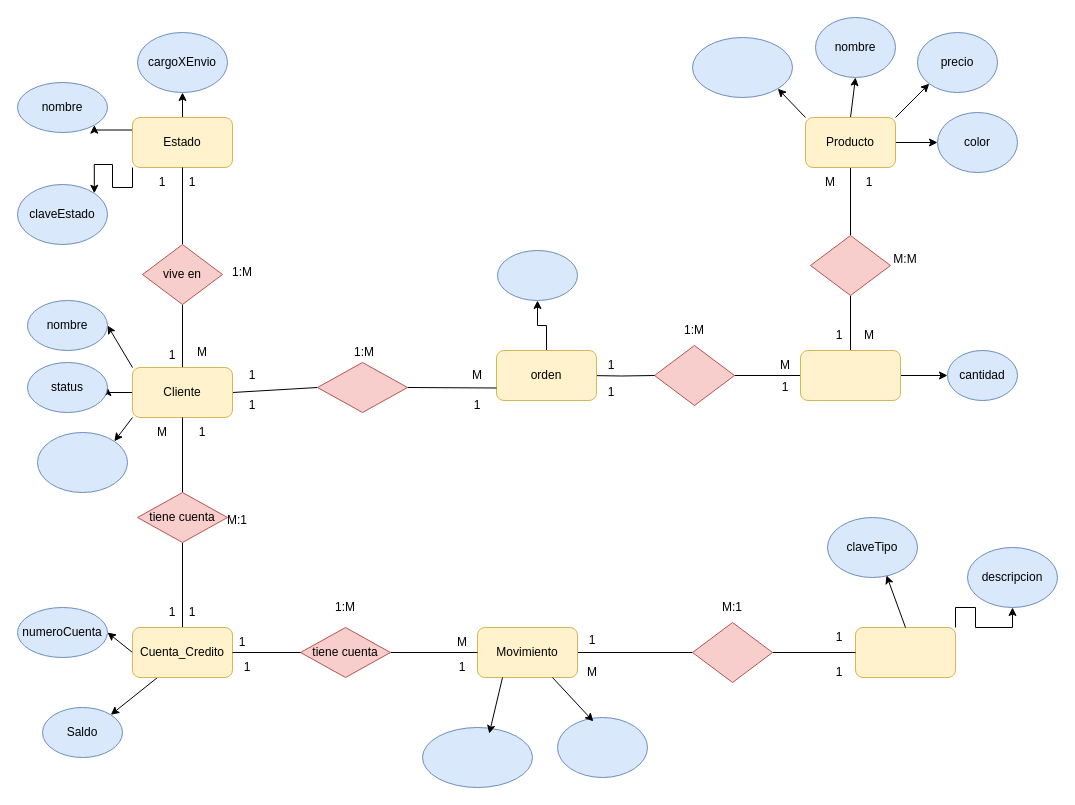
Image size: 1075x805. Some labels were removed from this diagram. The centre of each missing label's shape, as x and y in pixels:
"contiene" belongs at [850,265].
"detalleOrden" belongs at [850,375].
"es de tipo" belongs at [732,652].
"importe" belongs at [602,747].
"numCliente" belongs at [82,462].
"numeroMovimiento" belongs at [477,757].
"numeroOrden" belongs at [537,275].
"numeroProducto" belongs at [742,67].
"realiza" belongs at [362,387].
"tiene" belongs at [694,375].
"tipoMovimiento" belongs at [905,652].
